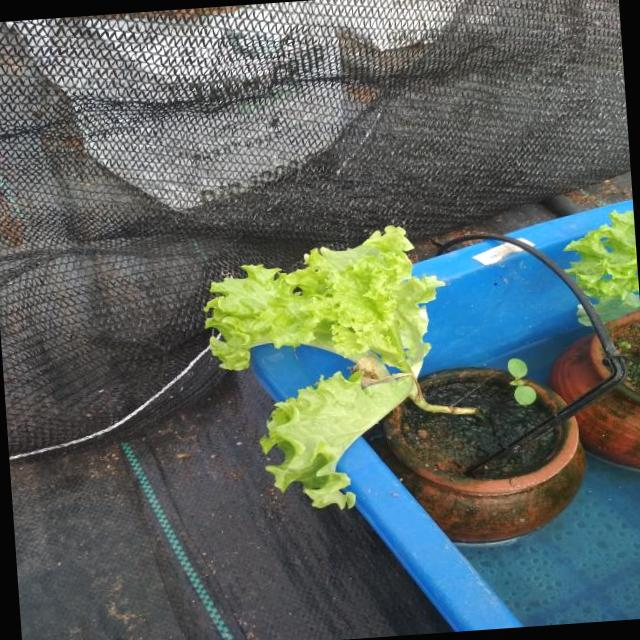Lettuce-Not-Ready-to-Harvest: (205, 226, 477, 507), (564, 210, 639, 303)
